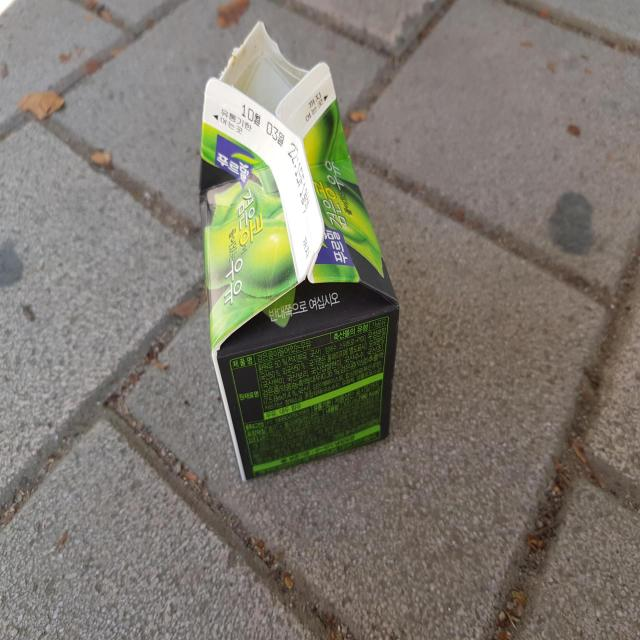paperpack: (199, 20, 399, 481)
